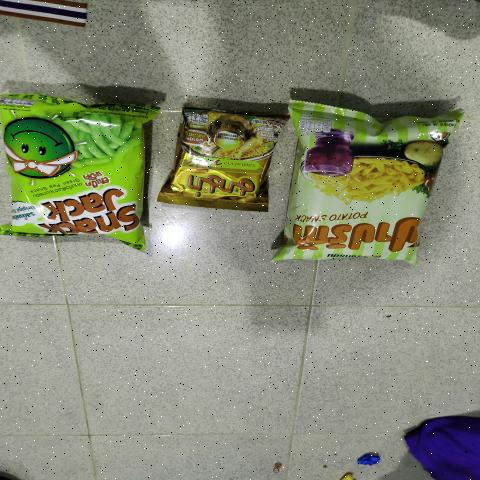mama: (192, 112, 266, 204)
paprika: (292, 101, 431, 264)
snack_jack: (7, 85, 136, 239)
